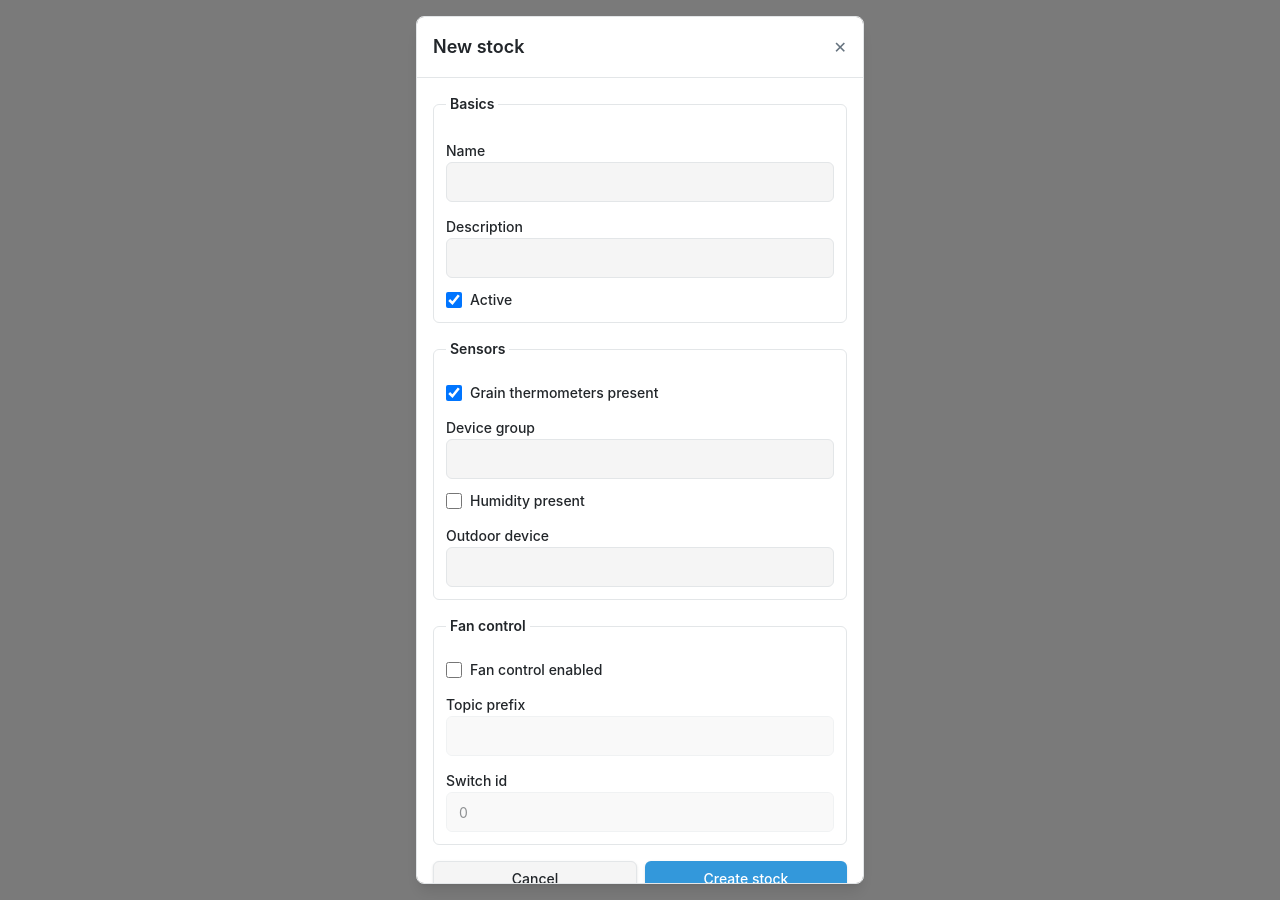
StockFormDialog field dependencies › locks the topic prefix and the switch id until fan control is ticked
Check: the number field labelled "Switch id" is disabled, box x1=446 y1=792 x2=834 y2=832
Click the checkbox labelled "Fan control enabled" at (454, 670), box x1=446 y1=662 x2=462 y2=678
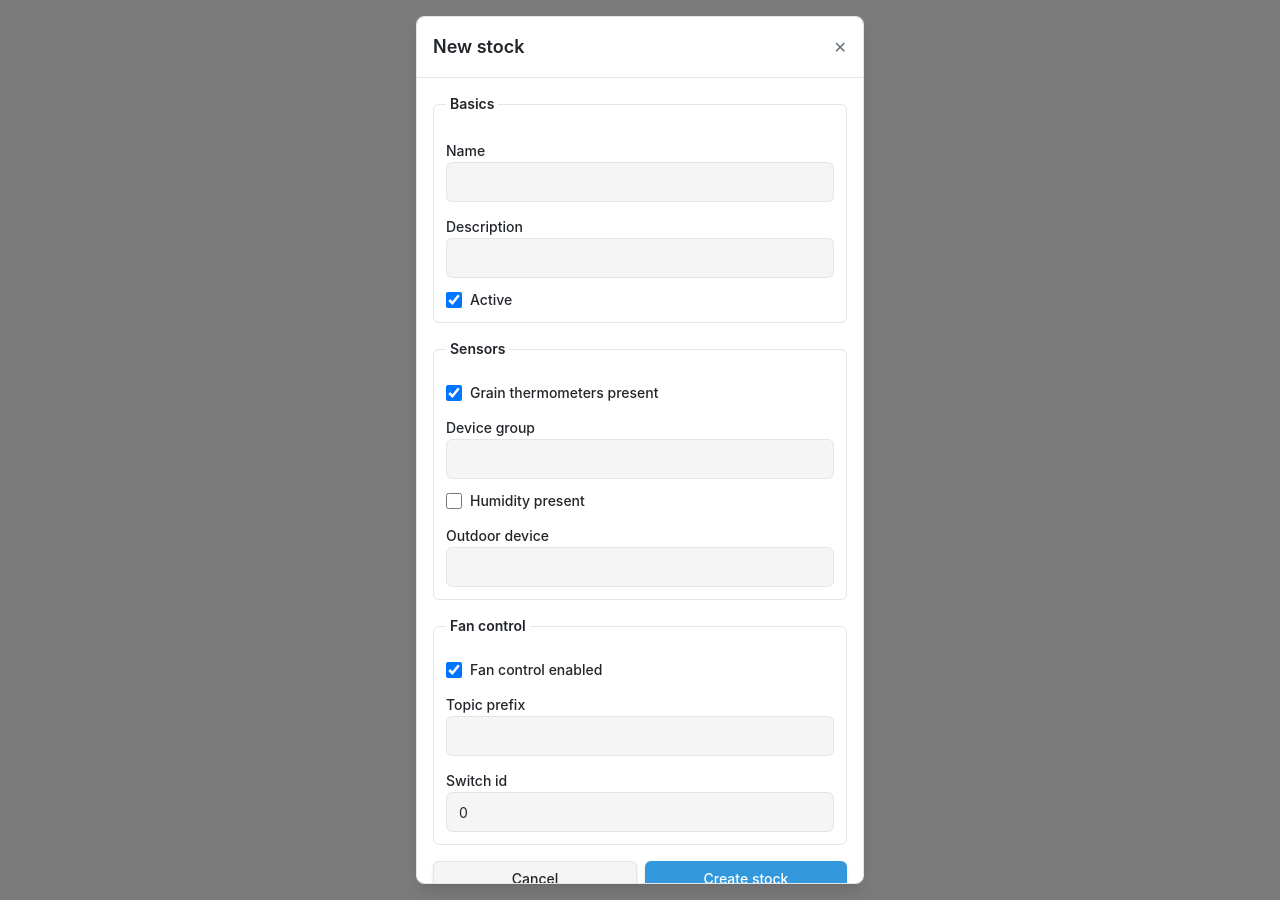
Check: the field labelled "Topic prefix" is enabled, box x1=446 y1=716 x2=834 y2=756
Check: the number field labelled "Switch id" is enabled, box x1=446 y1=792 x2=834 y2=832
